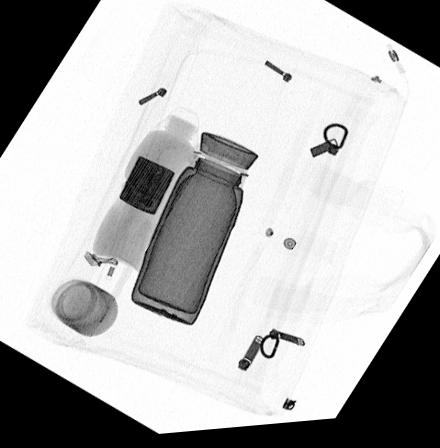Lighter: (118, 157, 174, 217)
